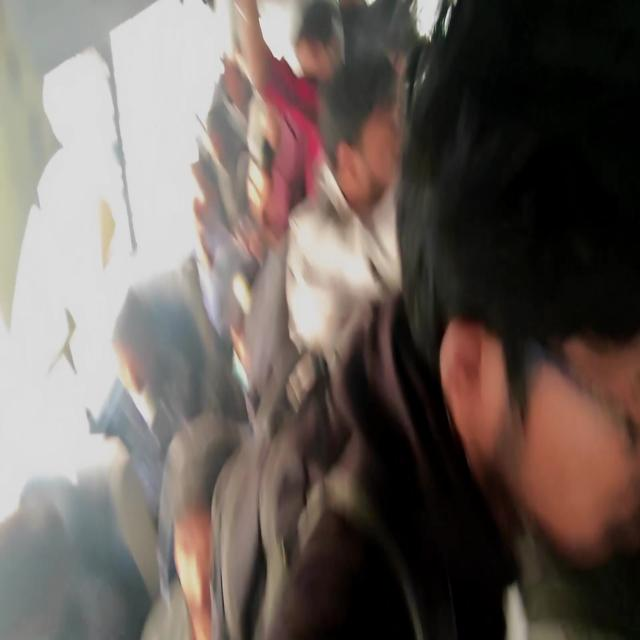person: (415, 8, 640, 632), (172, 442, 283, 640), (98, 334, 199, 491), (0, 474, 90, 640), (317, 84, 392, 219), (209, 338, 280, 438), (222, 54, 266, 140), (178, 160, 222, 232), (299, 21, 351, 76), (196, 102, 232, 161), (244, 156, 274, 214)
